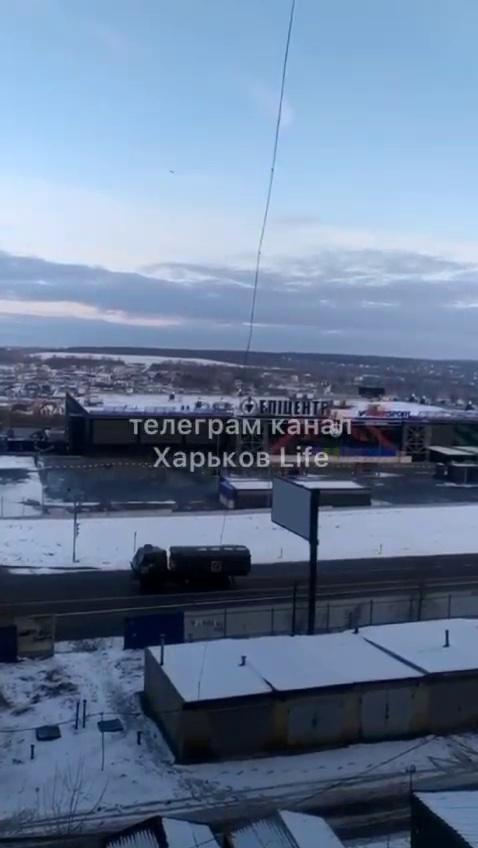truck: (130, 543, 253, 587)
